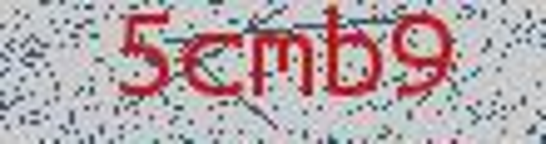5: (110, 6, 175, 99)
9: (388, 3, 465, 102)
b: (319, 3, 384, 99)
c: (180, 25, 247, 99)
m: (250, 23, 319, 109)
